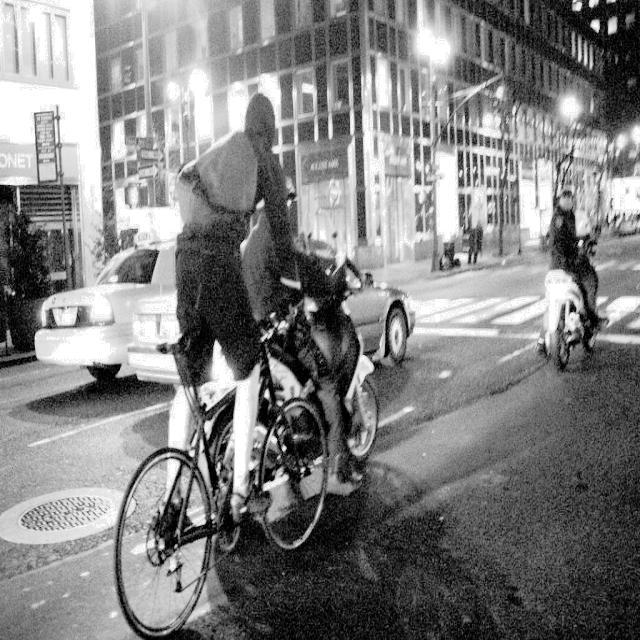Bicycle: (93, 353, 327, 629), (243, 285, 375, 544)
Car: (210, 228, 419, 369), (33, 244, 193, 369)
Motorcycle: (497, 259, 635, 381)
